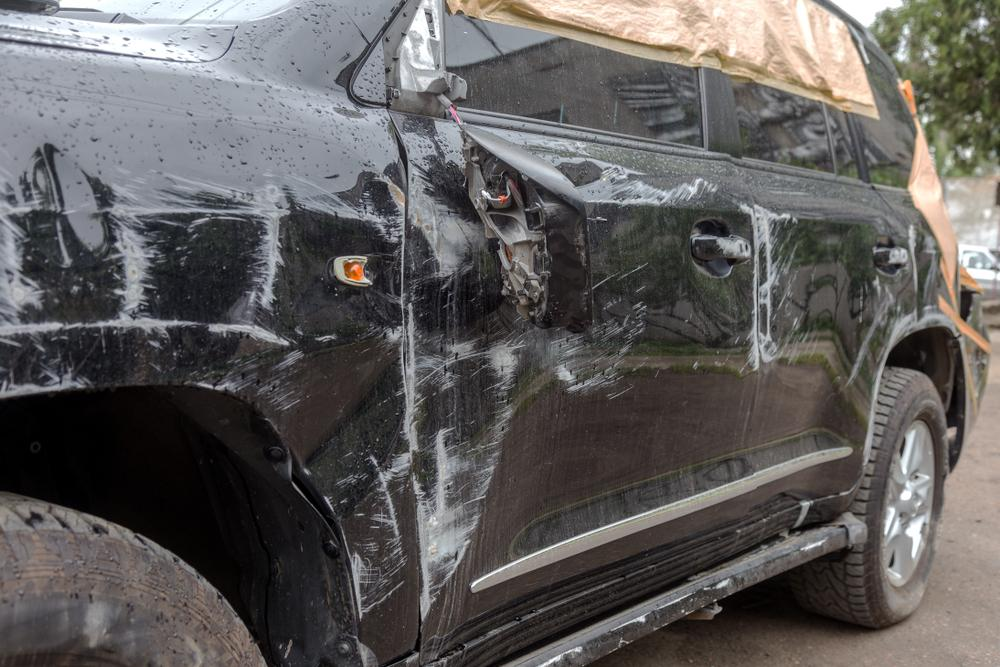dent: (306, 357, 404, 517), (19, 145, 102, 266)
scratch: (401, 171, 718, 630), (736, 203, 828, 380), (341, 435, 416, 622)
